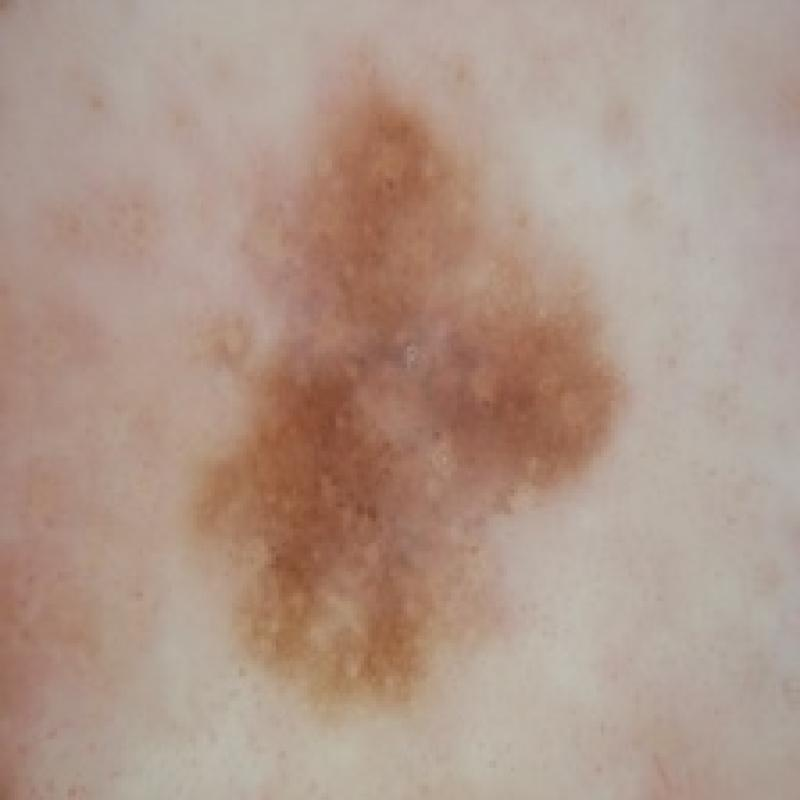malignant: (159, 62, 642, 730)
